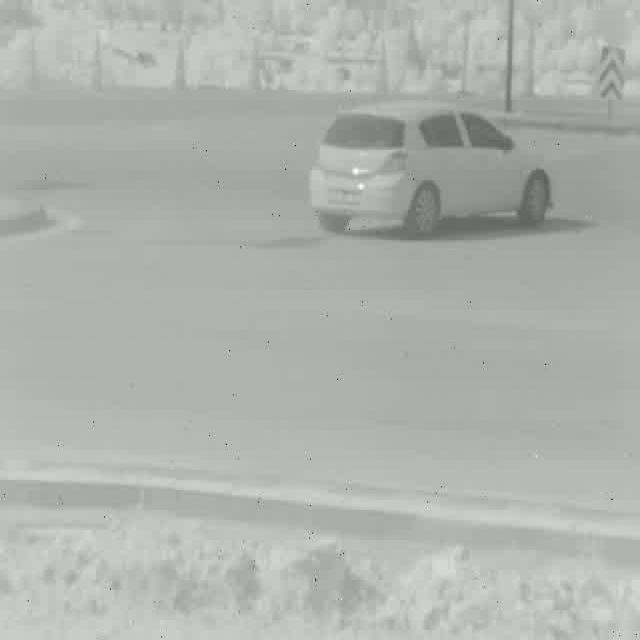Car: (308, 102, 550, 229)
